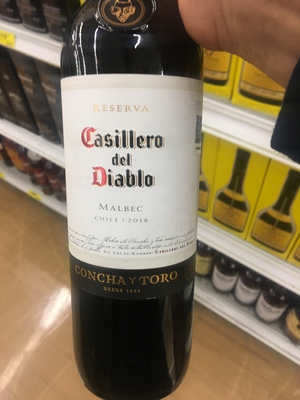casillero del diablo malbec: (43, 6, 218, 390)
